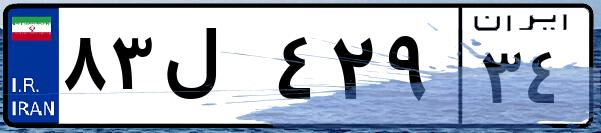2: (330, 28, 385, 110)
3: (475, 38, 525, 113), (110, 28, 158, 98)
4: (270, 28, 330, 110), (525, 38, 570, 115)
8: (57, 26, 110, 100)
9: (385, 28, 445, 110)
ل: (158, 20, 270, 120)
